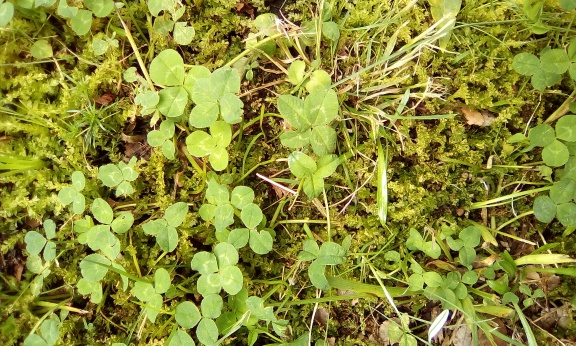4leaf: (276, 87, 339, 157), (188, 67, 244, 129), (191, 242, 243, 298)
